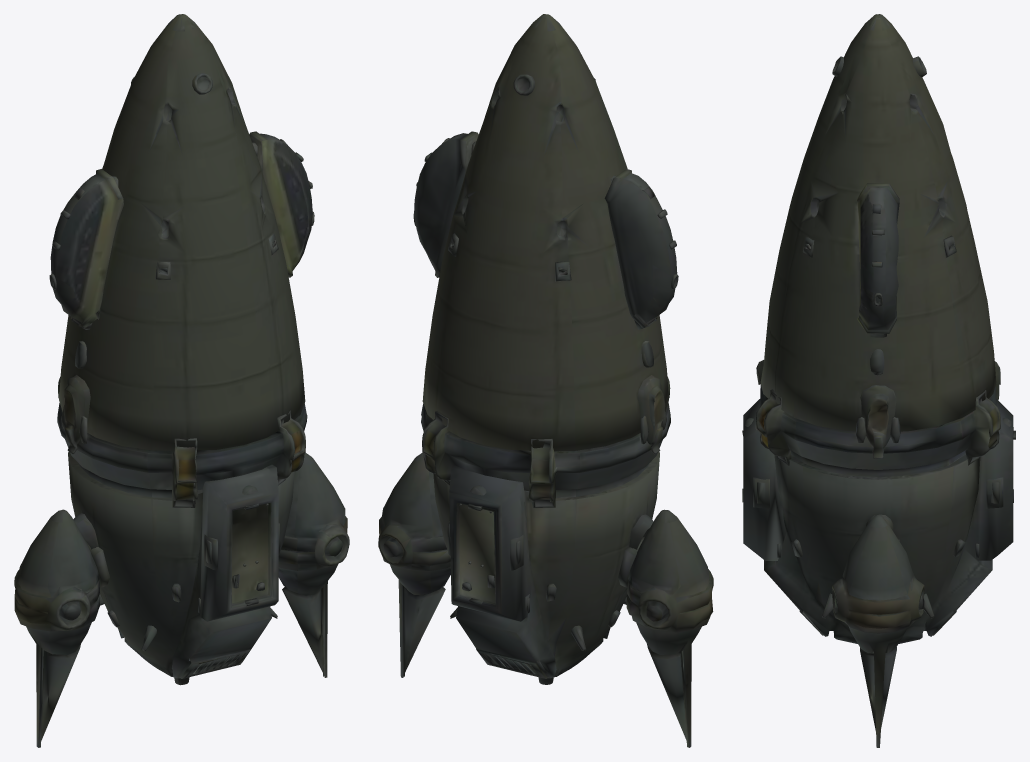
File: p_droppod.glb
3 renders of one model, left to right at view 1: azimuth 30°, elevation 25°; view 2: azimuth 150°, elevation 25°; view 3: azimuth 270°, elevation 25°, orthographic. The views are drawn at different scales.
Size of the model in its own units: 0.4653 by 0.9526 by 0.355.
Materials: 1 (1 with a texture image).
